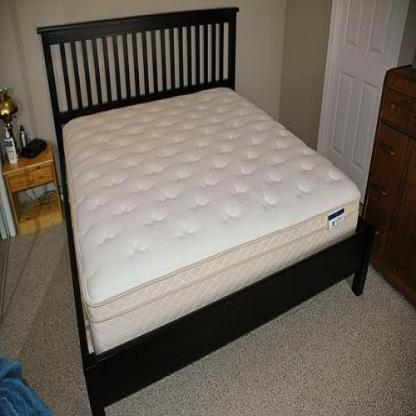Bed: (29, 0, 392, 414)
